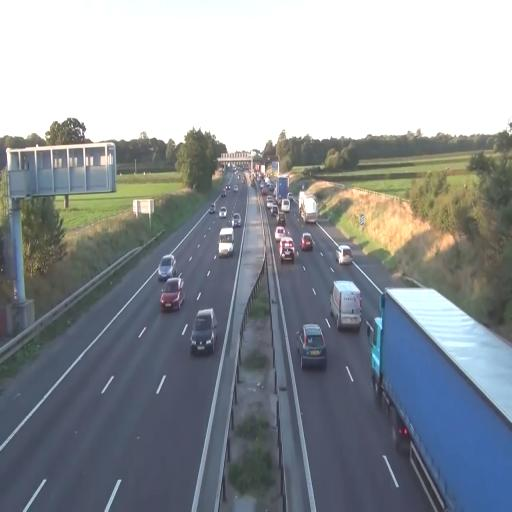vehicle: (368, 286, 512, 508), (330, 281, 362, 331), (298, 323, 327, 370), (190, 308, 216, 356), (160, 275, 184, 312), (276, 232, 296, 266), (218, 226, 234, 256), (279, 237, 296, 264), (158, 255, 176, 280), (337, 244, 352, 266), (300, 233, 314, 252), (230, 210, 242, 228)
